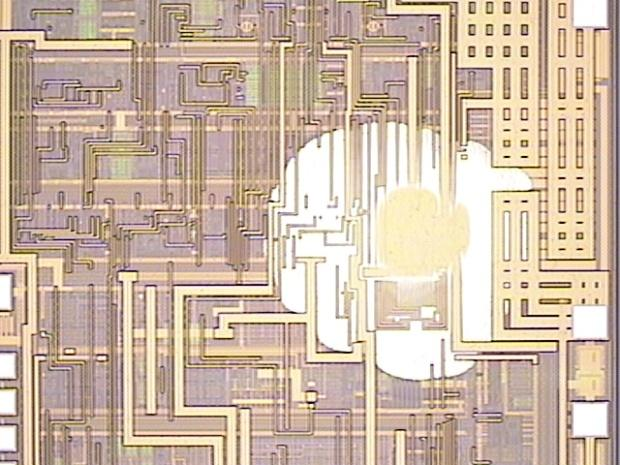BLOCK ETCH: (256, 115, 554, 392)
